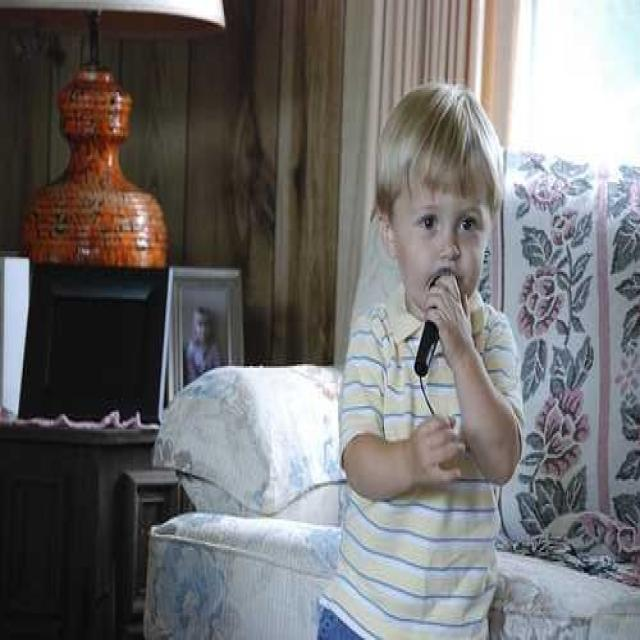microphone: (414, 258, 486, 376)
